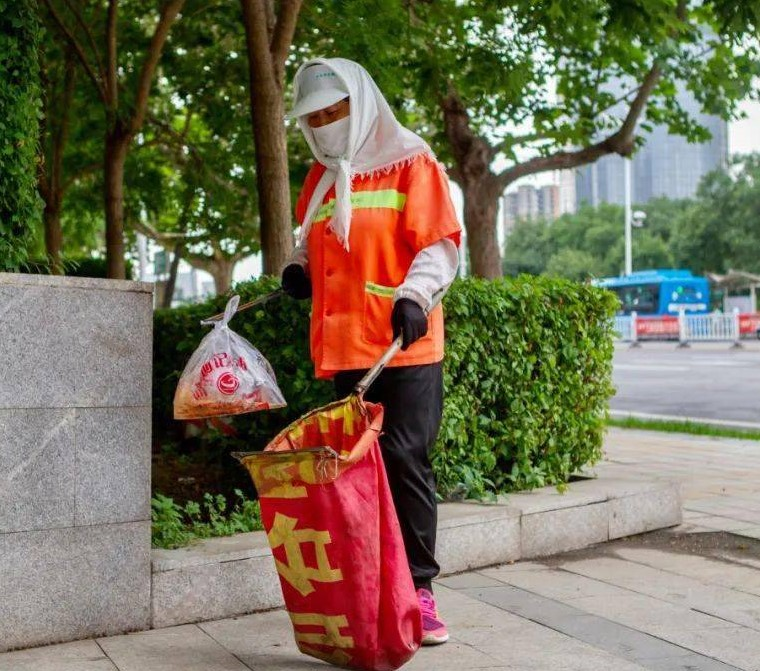vest: (265, 56, 466, 376)
